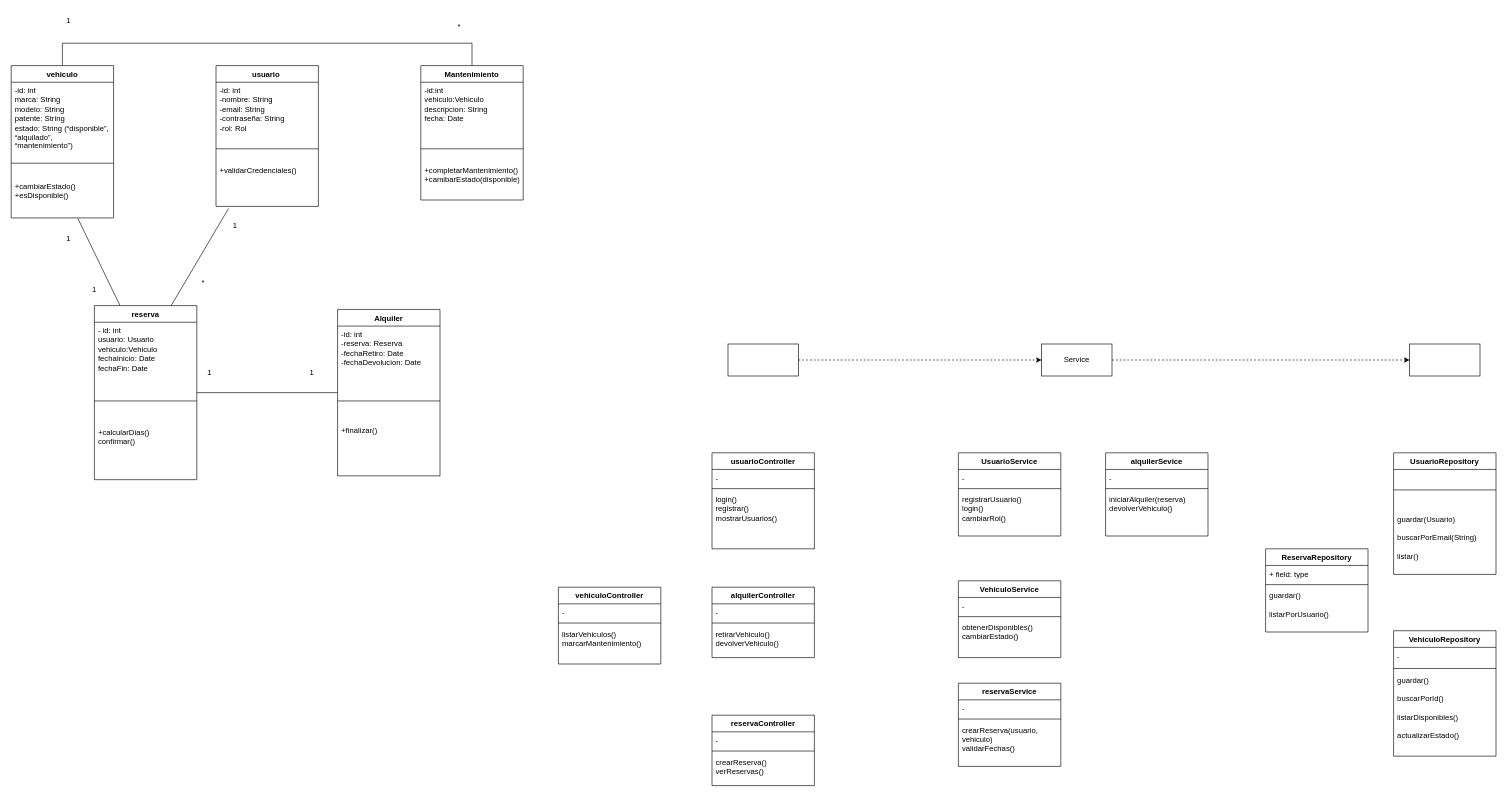
The diagram is 1507 pixels wide and 798 high, and some of its shapes have lost their labels. The centre of each missing label's shape, as x and y in pixels:
Controller: the point at 762,359
Repository: the point at 1444,359
